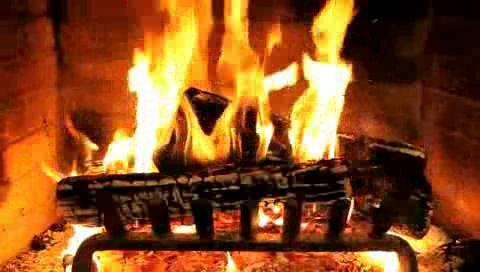fire: (125, 0, 358, 168)
